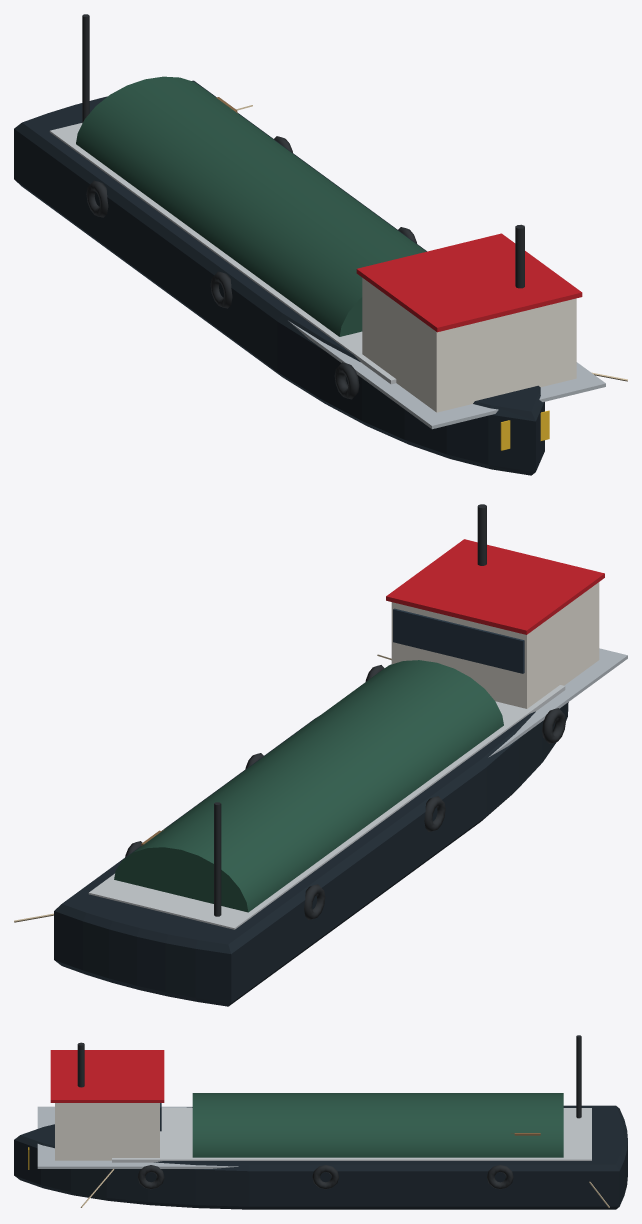
File: boat-barge.obj
3 views of the same model, one above another, from view 1: azimuth 30°, elevation 25°; view 2: azimuth 150°, elevation 25°; view 3: azimuth 270°, elevation 25° (orthographic). The views are drawn at different scales.
Visible parts, largest first — view 1: part4, part1, part5, part9.nocast, part2.nocast, part3.nocast, part11, part15.nocast, part10; view 2: part4, part1, part9.nocast, part5, part3.nocast, part6.nocast, part2.nocast, part11; view 3: part1, part4, part5, part9.nocast, part3.nocast, part2.nocast, part11, part16.nocast, part17.nocast, part18.nocast, part10.
Boxes of the visible parts, x1,y1,x2,y2 form: part4: (76,76,426,336); part1: (14,80,544,475); part5: (362,278,576,412); part9.nocast: (356,233,582,332); part2.nocast: (288,320,605,429); part3.nocast: (49,123,396,384); part11: (82,14,89,123); part15.nocast: (334,362,359,399); part10: (515,224,524,288); part4: (114,660,503,912); part1: (54,702,568,1006); part9.nocast: (386,539,604,634); part5: (391,582,599,708); part3.nocast: (88,685,565,929); part6.nocast: (393,608,524,673); part2.nocast: (390,648,627,757); part11: (214,802,221,916); part1: (14,1105,627,1209); part4: (192,1093,563,1157); part5: (55,1103,159,1160); part9.nocast: (50,1050,164,1102); part3.nocast: (112,1108,591,1162); part2.nocast: (37,1106,238,1168); part11: (576,1035,581,1118); part16.nocast: (487,1165,513,1189); part17.nocast: (312,1165,338,1189); part18.nocast: (137,1165,164,1189); part10: (77,1042,84,1087).
Bounding box in the file's own units: 4.39 × 3.72 × 14.07.
